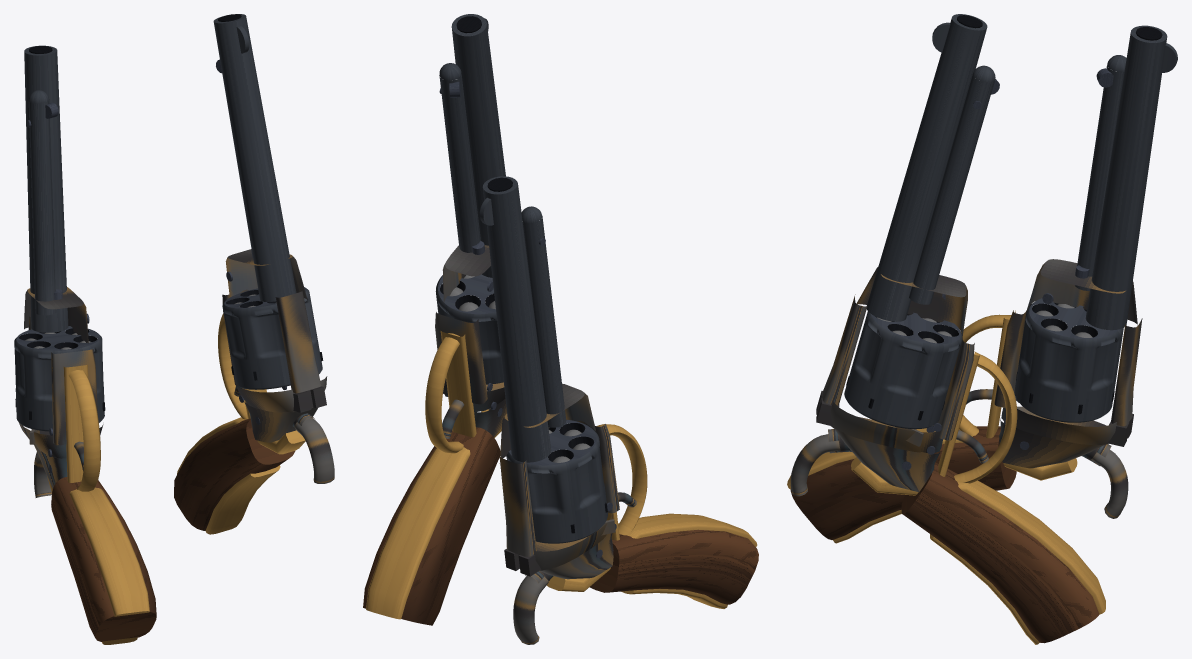
File: gun.rusty-six.gltf
The picture shows the model from 3 angles, left to right: view 1: azimuth 30°, elevation 25°; view 2: azimuth 150°, elevation 25°; view 3: azimuth 270°, elevation 25°; orthographic projection. The views are drawn at different scales.
Visible parts, largest first — view 1: revolver (×2); view 2: revolver (×2); view 3: revolver (×2).
Part boxes in pixels (x1,y1,x2,y2): revolver (×2): (14,14,334,644); revolver (×2): (363,14,758,644); revolver (×2): (787,14,1177,644).
Size of the model in its own units: 0.1616 by 0.3355 by 0.1944.
1 material, 1 textured.
